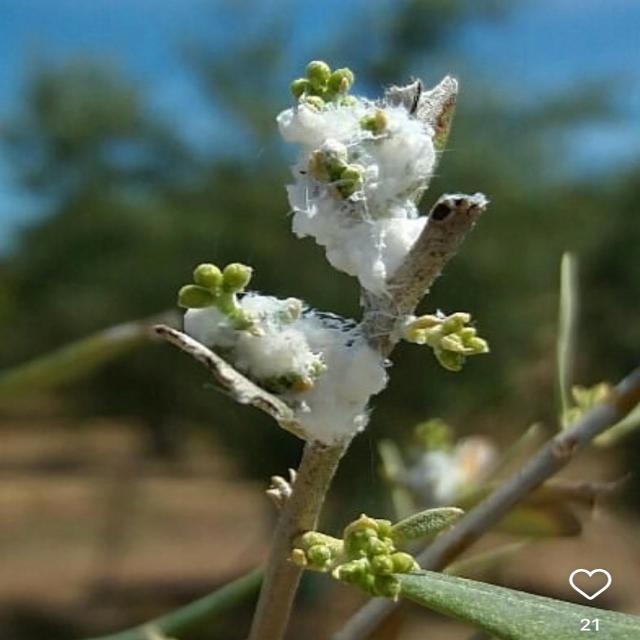Psyllid: (153, 264, 420, 446), (277, 61, 457, 300)
